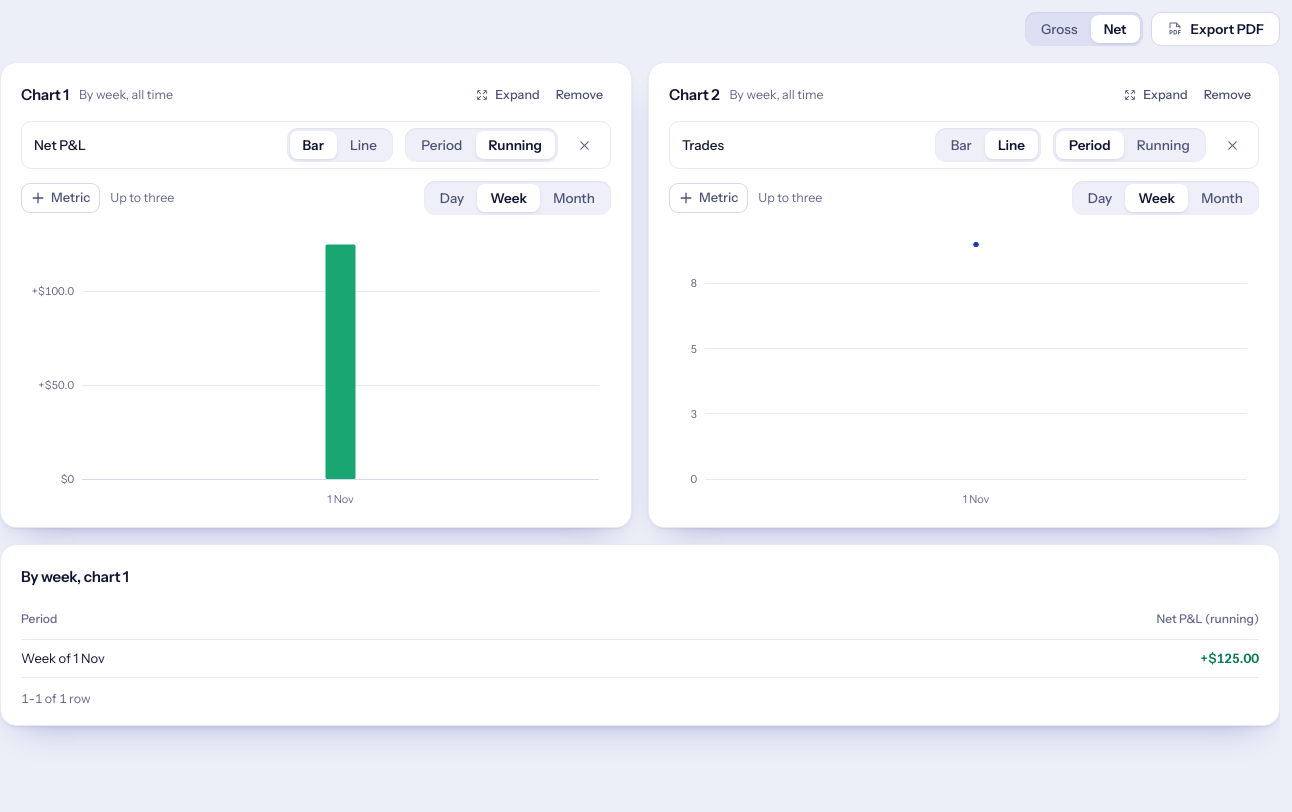
Scenario: Remove empties its place with Add chart, which brings the slot back as it was
What coordinates should you click on to do the following:
click the button with aria-label "Remove chart 2"
I would click on:
 (1227, 95)
Its box is [1196,81,1259,109].
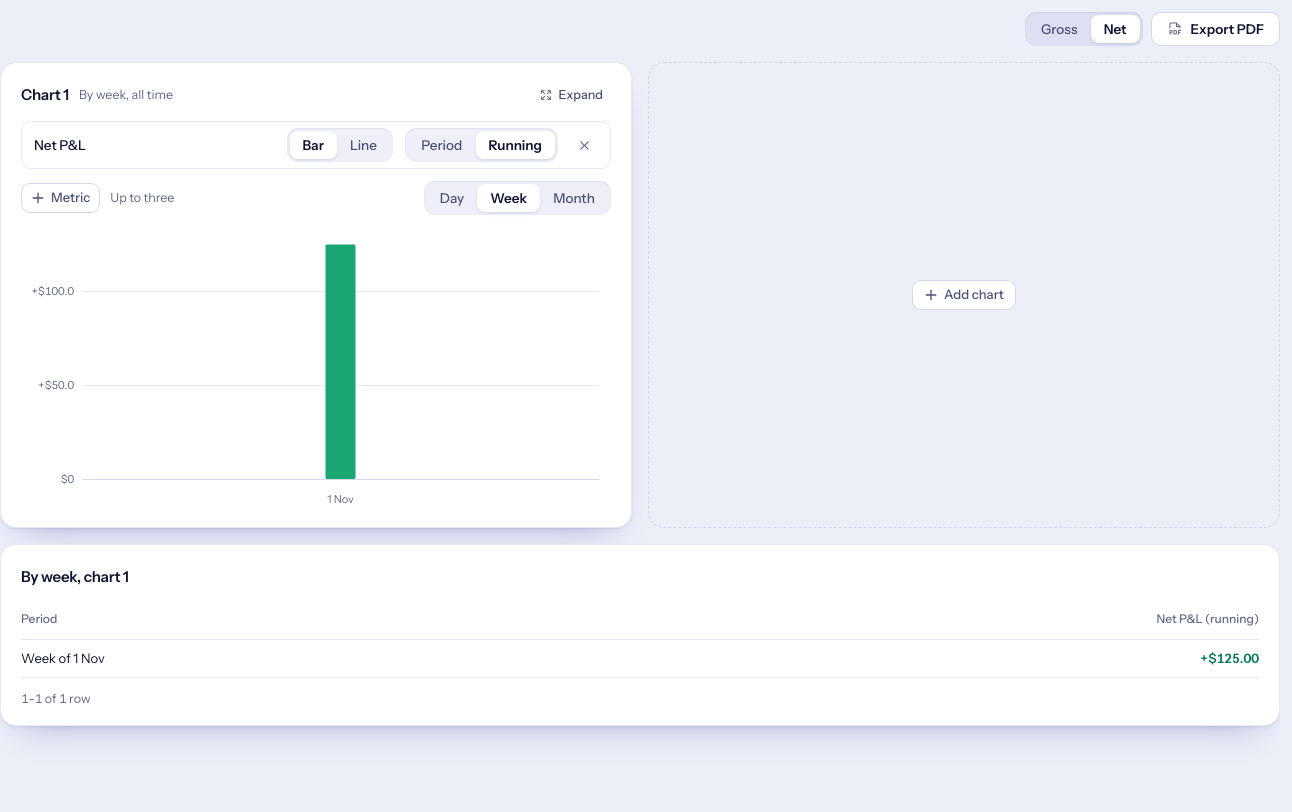
Result: the heading "Chart 2" is gone
What coordinates should you click on to do the following:
click the button "Add chart"
I would click on:
 (964, 295)
Its box is [912,280,1016,310].
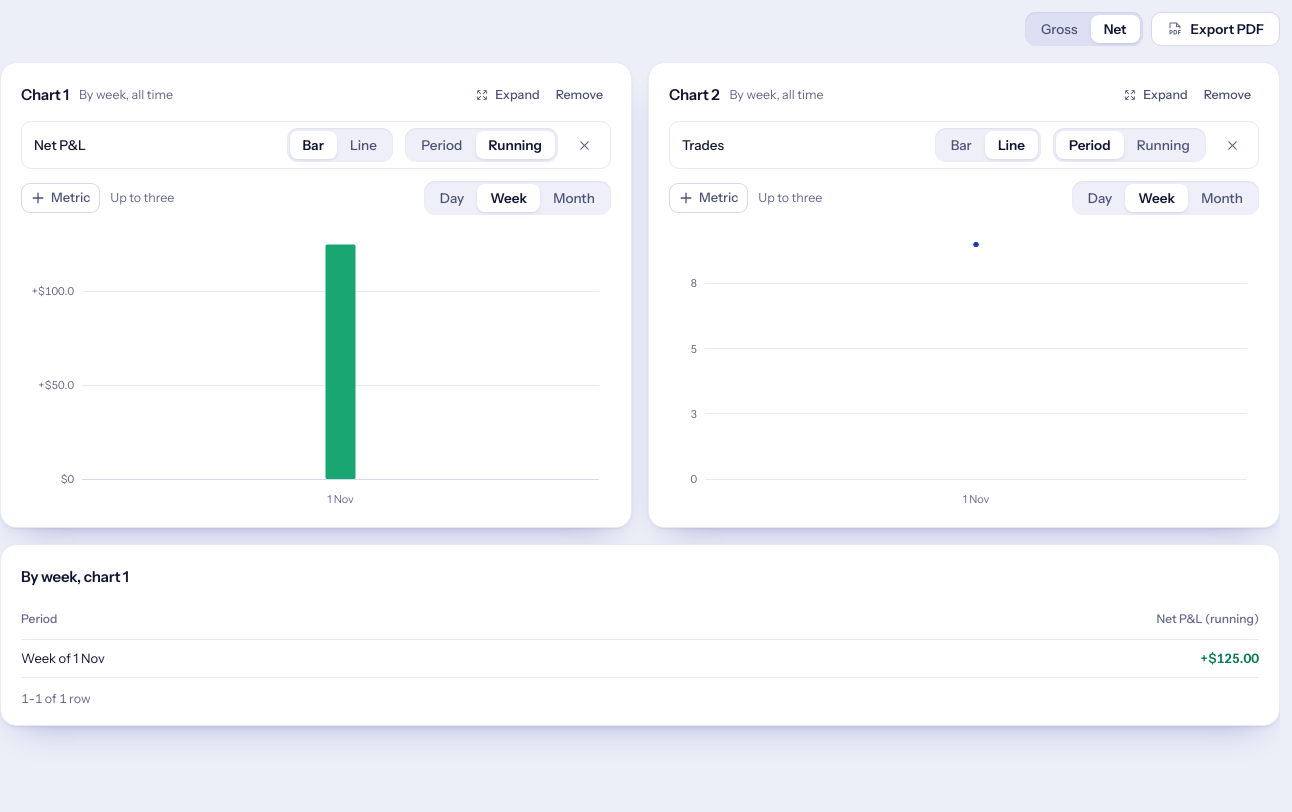
Result: the button "Add chart" is gone
